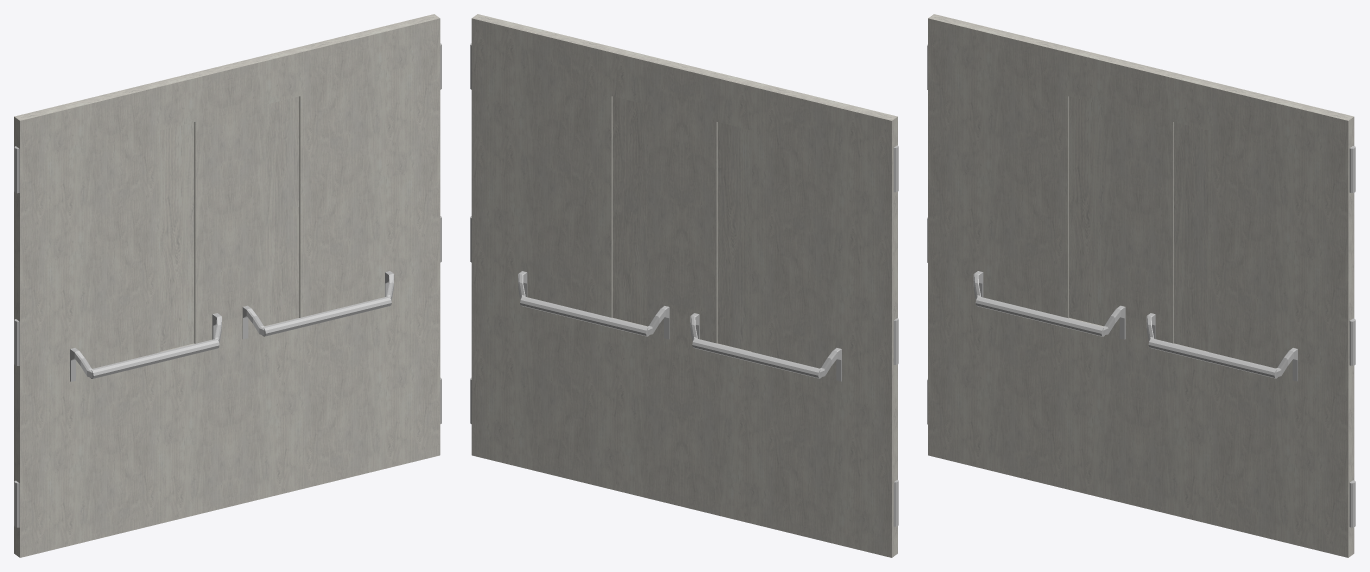
The model's file is double_door.obj.
3 renders of one model, left to right at view 1: azimuth 30°, elevation 25°; view 2: azimuth 150°, elevation 25°; view 3: azimuth 330°, elevation 25°, orthographic.
Parts seen in each view (by area): view 1: Cube.002_Cube.001, griff_Cylinder.004, griff.001_Cylinder.005, Cylinder.001, Cube.005_Cube.006, Cube.004_Cube.005; view 2: Cube.002_Cube.001, griff.003_Cylinder.006, griff.002_Cylinder.002, Cylinder.001, Cube.006_Cube.007, Cube.003_Cube.002; view 3: Cube.002_Cube.001, griff.001_Cylinder.005, griff_Cylinder.004, Cylinder.001, Cube.005_Cube.006, Cube.004_Cube.005.
Boxes of the visible parts, x1,y1,x2,y2 form: Cube.002_Cube.001: (14, 14, 440, 557); griff_Cylinder.004: (262, 296, 391, 336); griff.001_Cylinder.005: (90, 339, 219, 378); Cylinder.001: (14, 43, 441, 527); Cube.005_Cube.006: (70, 313, 221, 381); Cube.004_Cube.005: (242, 271, 394, 339); Cube.002_Cube.001: (471, 14, 897, 557); griff.003_Cylinder.006: (520, 296, 649, 336); griff.002_Cylinder.002: (692, 339, 821, 378); Cylinder.001: (470, 43, 898, 526); Cube.006_Cube.007: (518, 271, 669, 339); Cube.003_Cube.002: (690, 313, 841, 381); Cube.002_Cube.001: (928, 14, 1354, 557); griff.001_Cylinder.005: (975, 297, 1104, 336); griff_Cylinder.004: (1148, 339, 1277, 378); Cylinder.001: (927, 44, 1355, 527); Cube.005_Cube.006: (973, 271, 1125, 339); Cube.004_Cube.005: (1146, 313, 1297, 381).
Size of the model in its own units: 2.44 by 2.38 by 0.313.
